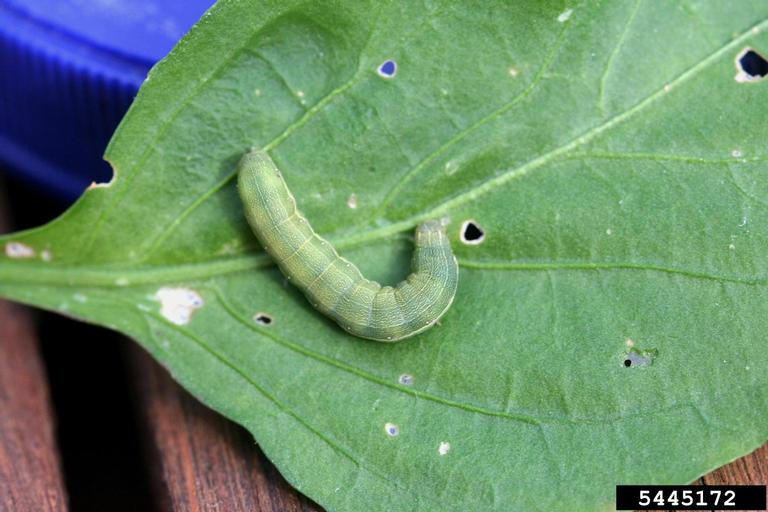Armyworm: (213, 125, 472, 363)
